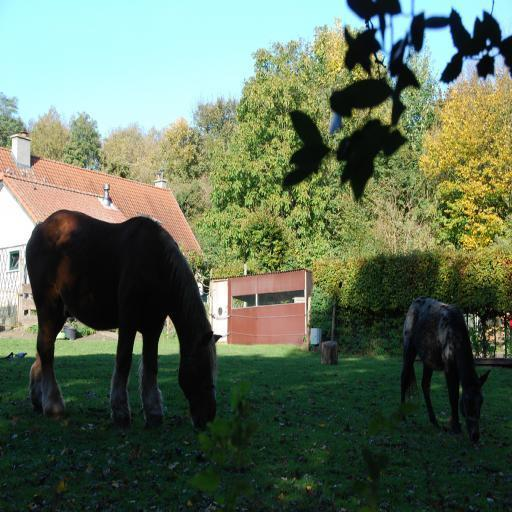horse: (22, 212, 216, 432), (397, 301, 488, 455)
